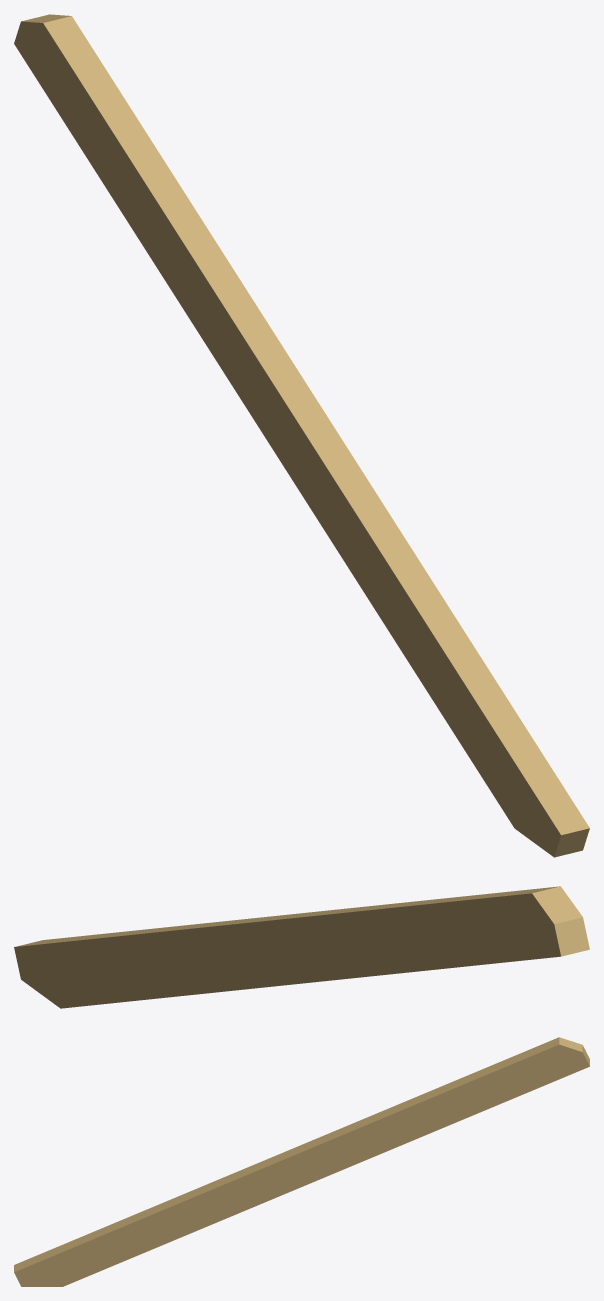
3 renders of one model, top to bottom at view 1: azimuth 30°, elevation 25°; view 2: azimuth 210°, elevation 25°; view 3: azimuth 270°, elevation 25°, orthographic. The views are drawn at different scales.
Parts seen in each view (by area): view 1: L1-3-S9-325-WEB03; view 2: L1-3-S9-325-WEB03; view 3: L1-3-S9-325-WEB03.
Part boxes in pixels (<box>): L1-3-S9-325-WEB03: <box>14,14,589,857</box>; L1-3-S9-325-WEB03: <box>14,886,589,1008</box>; L1-3-S9-325-WEB03: <box>14,1037,589,1286</box>.
Size of the model in its own units: 0.045 by 0.6875 by 1.48.
